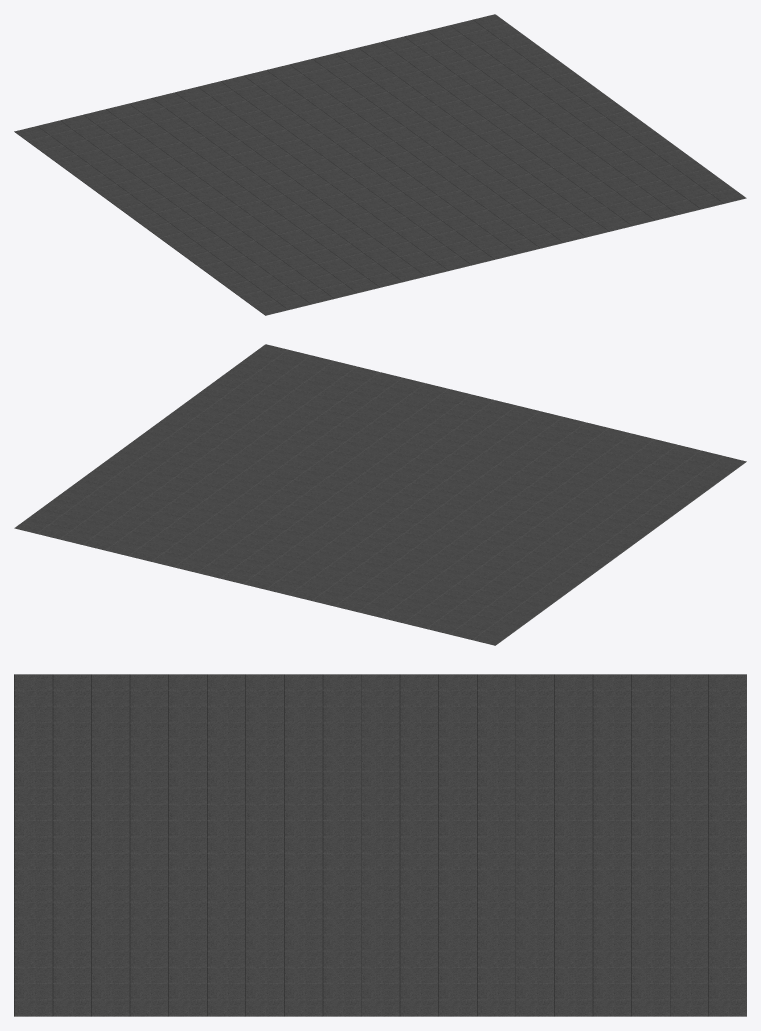
File: SM_Floor_1.fbx
3 views of the same model, one above another, from view 1: azimuth 30°, elevation 25°; view 2: azimuth 150°, elevation 25°; view 3: azimuth 270°, elevation 25° (orthographic). The views are drawn at different scales.
Parts seen in each view (by area): view 1: Floor_1; view 2: Floor_1; view 3: Floor_1.
Part boxes in pixels (x1,y1,x2,y2): Floor_1: (14, 14, 746, 315); Floor_1: (14, 344, 746, 645); Floor_1: (14, 674, 746, 1016).
Size of the model in its own units: 42 by 0.029 by 38.
